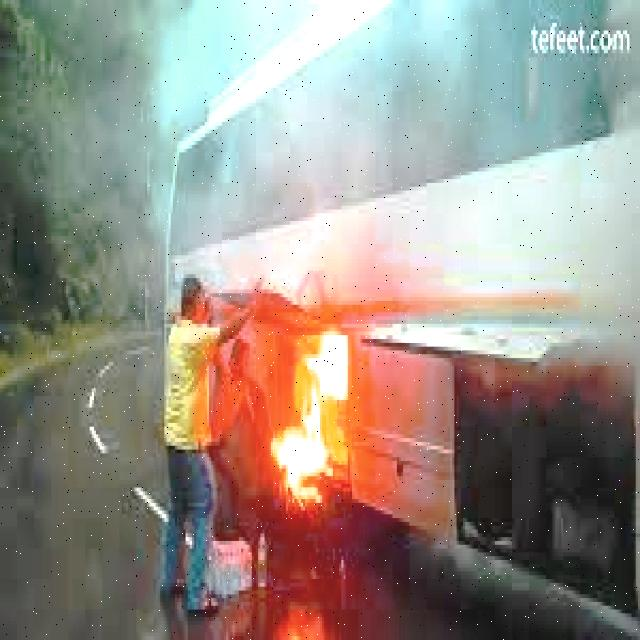api: (251, 302, 375, 523)
